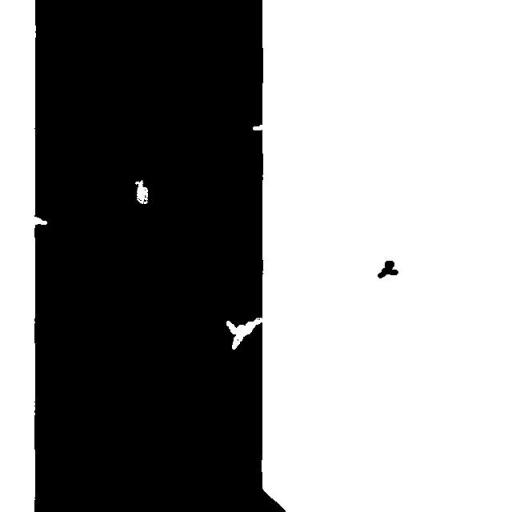copper: (370, 252, 406, 286)
mousebite: (218, 310, 272, 356), (26, 209, 54, 232), (245, 116, 270, 138)
pin-hole: (127, 172, 155, 211)
